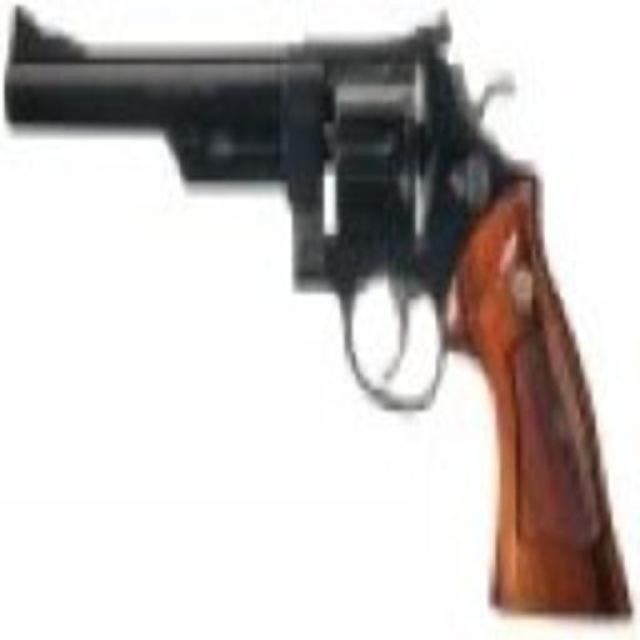pistol: (7, 5, 631, 607)
